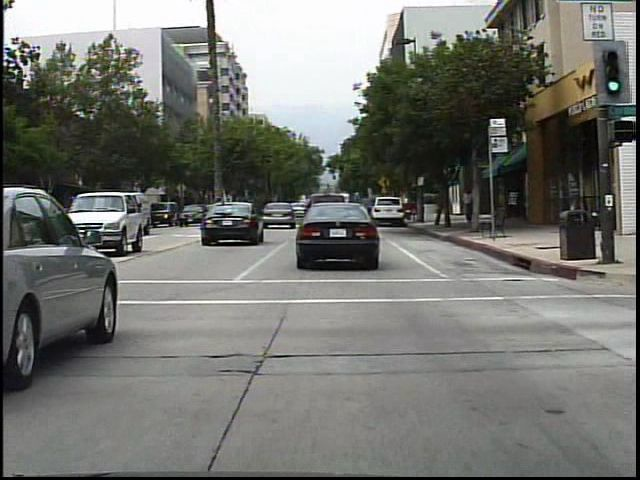person: (460, 186, 480, 228)
